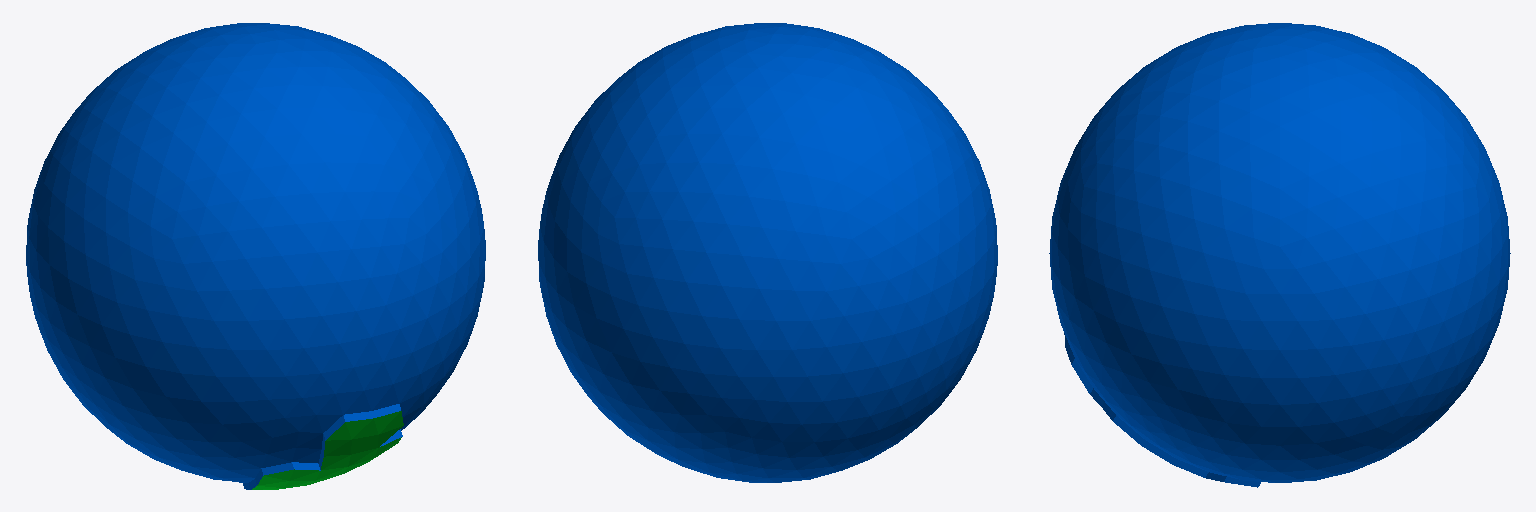
Rendered from globe.obj.
3 renders of one model, left to right at view 1: azimuth 30°, elevation 25°; view 2: azimuth 150°, elevation 25°; view 3: azimuth 270°, elevation 25°, orthographic.
Visible parts, largest first — view 1: Icosphere_Icosphere.001; view 2: Icosphere_Icosphere.001; view 3: Icosphere_Icosphere.001.
Boxes of the visible parts, x1=… form: Icosphere_Icosphere.001: x1=26, y1=23, x2=485, y2=489; Icosphere_Icosphere.001: x1=538, y1=23, x2=997, y2=482; Icosphere_Icosphere.001: x1=1049, y1=23, x2=1510, y2=487.
Size of the model in its own units: 2 by 2.03 by 2.